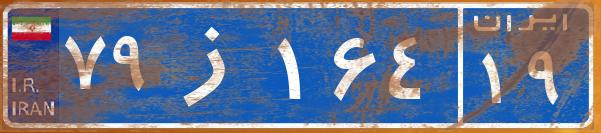1: (273, 28, 330, 110), (475, 38, 525, 113)
4: (385, 28, 445, 110)
6: (330, 28, 385, 110)
7: (57, 26, 110, 107)
9: (110, 28, 158, 105), (525, 38, 570, 115)
ز: (158, 15, 273, 115)
